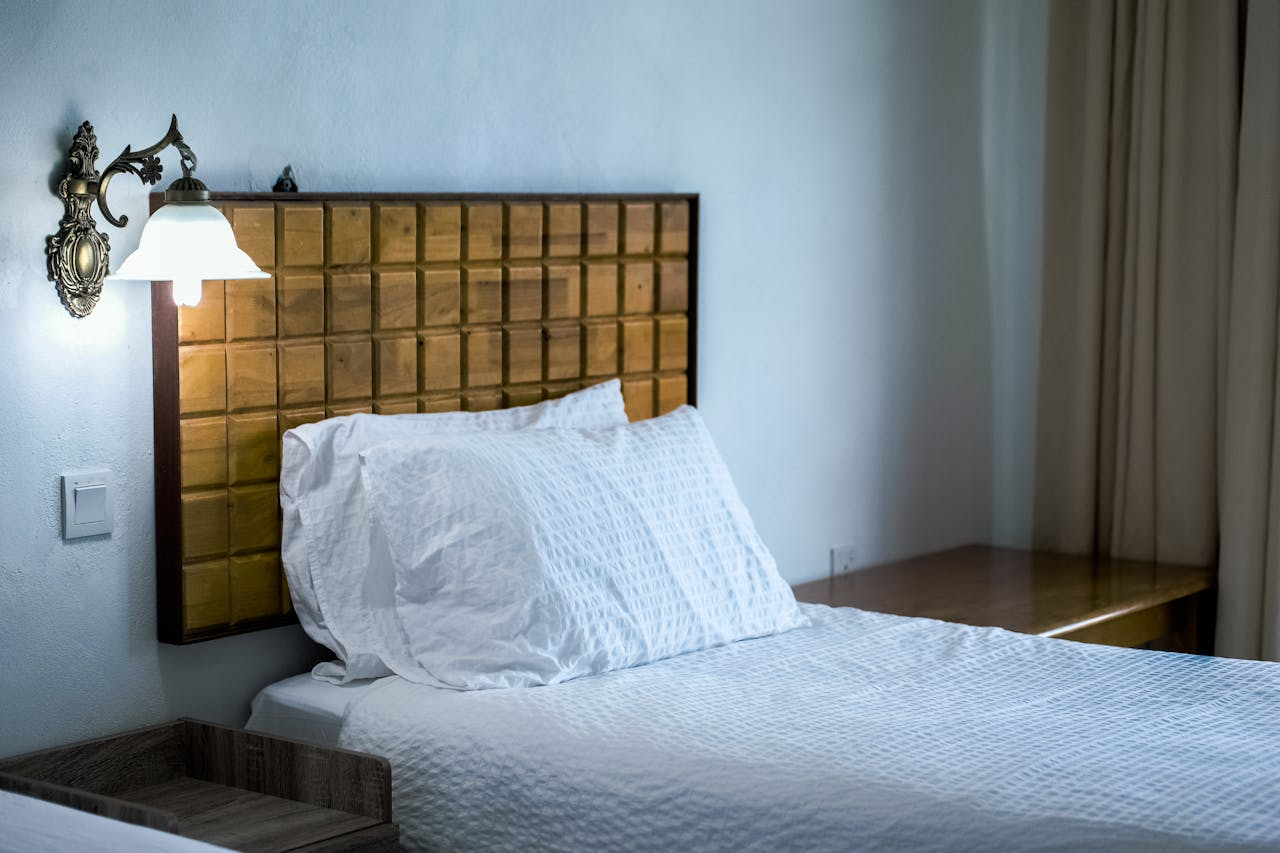Countertop_Wood: (38, 726, 389, 853)
Furniture_Fabric: (319, 561, 1280, 851)
Furniture_Wood: (861, 514, 1216, 656)
